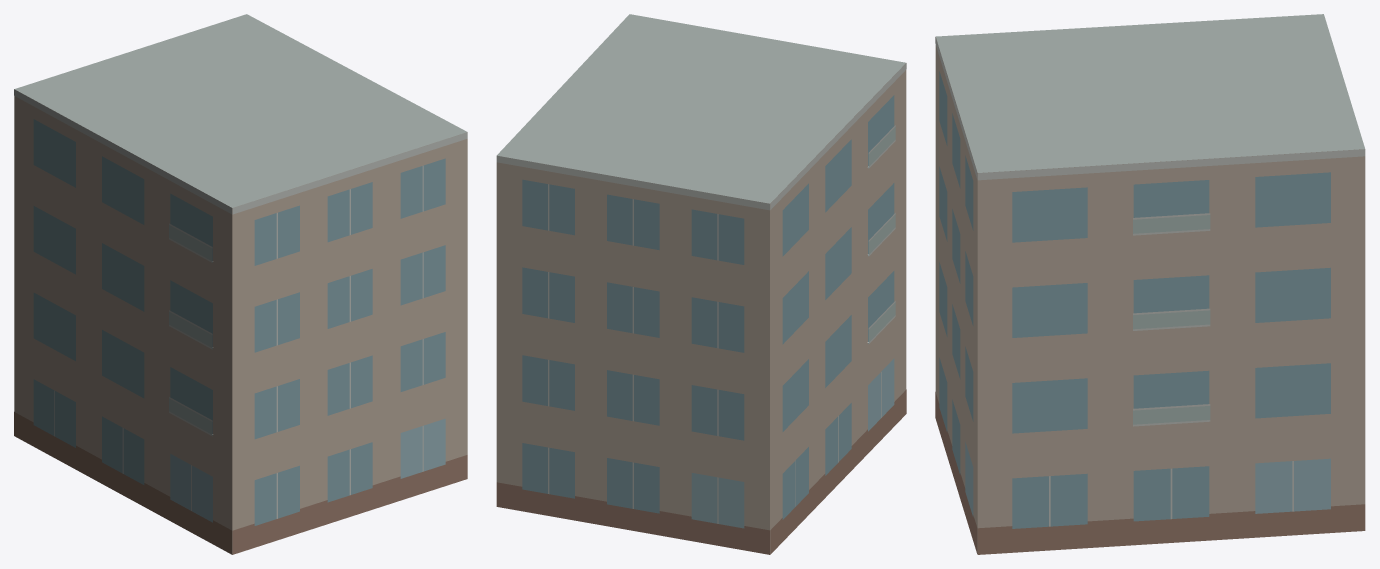
File: survey-upis-32904094.glb
The picture shows the model from 3 angles, left to right: view 1: azimuth 30°, elevation 25°; view 2: azimuth 150°, elevation 25°; view 3: azimuth 270°, elevation 25°; orthographic projection. The views are drawn at different scales.
Parts seen in each view (by area): view 1: survey-upis-32904094.tmp; view 2: survey-upis-32904094.tmp; view 3: survey-upis-32904094.tmp.
Boxes of the visible parts, left/top/right/bottom form: survey-upis-32904094.tmp: left=14, top=14, right=467, bottom=554; survey-upis-32904094.tmp: left=496, top=14, right=906, bottom=554; survey-upis-32904094.tmp: left=935, top=14, right=1365, bottom=554.
Bounding box in the file's own units: 11.45 × 12.8 × 13.07.
